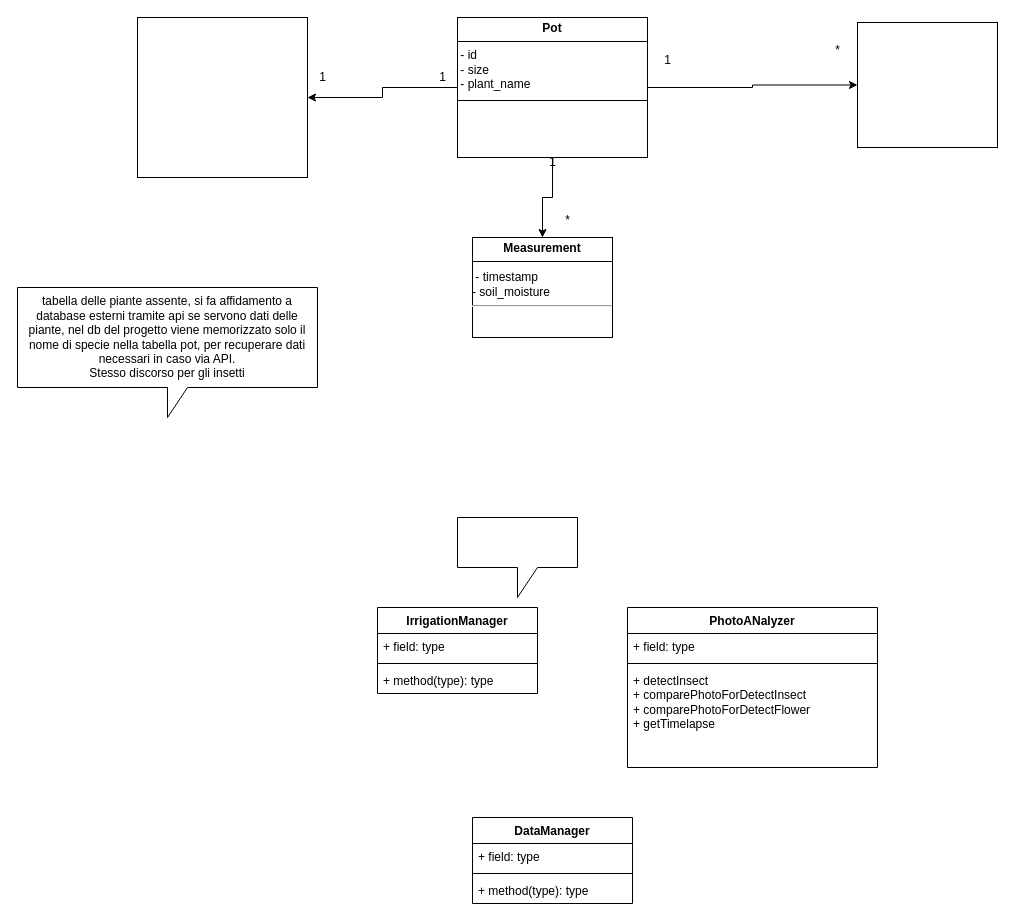
This 1015x924 diagram has some shape labels left out. The centre of each missing label's shape, as x and y in pixels:
"Configuration - threshold - watering_mode - shot_freq - insect_freq" goes at point 222,97.
"gestisce via raspberry l irrigazione" goes at point 517,557.
"Photo - timestamp - img_path - type (timelaspe, insect or flower)" goes at point 927,85.
